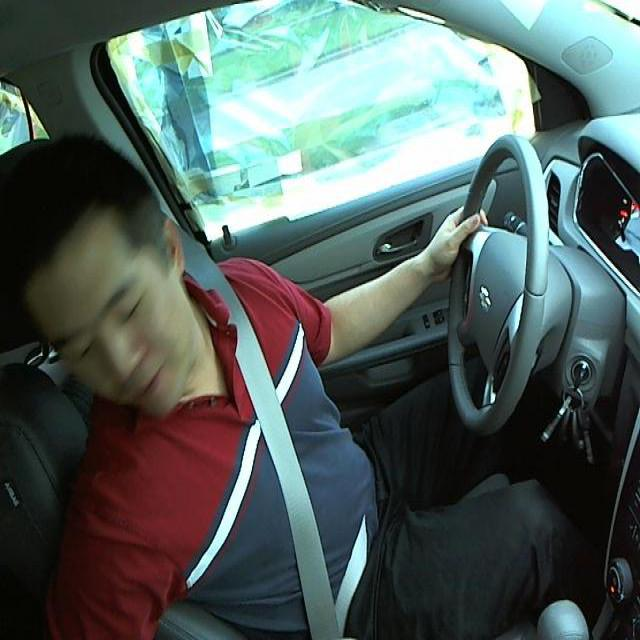seatbelt: (227, 339, 365, 628)
